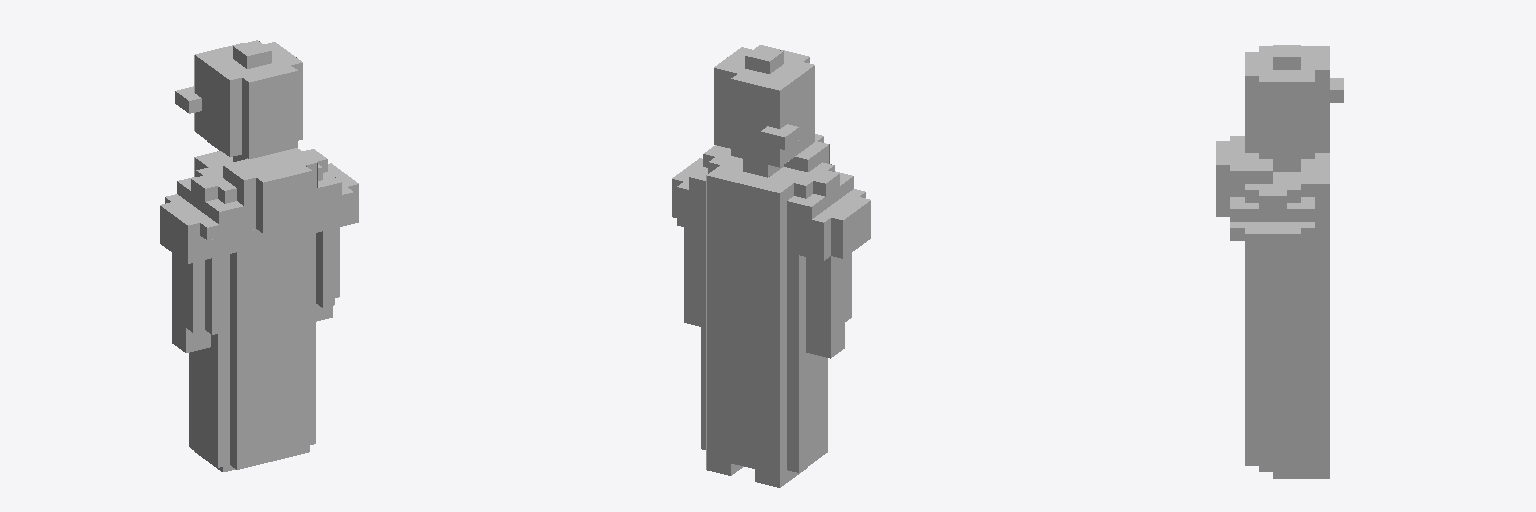
File: Monkv2-idle2.obj
The picture shows the model from 3 angles: view 1: azimuth 30°, elevation 25°; view 2: azimuth 150°, elevation 25°; view 3: azimuth 270°, elevation 25°; orthographic projection.
Visible parts, largest first — view 1: Untitled-1; view 2: Untitled-1; view 3: Untitled-1.
Boxes of the visible parts, x1=… form: Untitled-1: x1=160, y1=40, x2=358, y2=471; Untitled-1: x1=672, y1=45, x2=870, y2=487; Untitled-1: x1=1216, y1=45, x2=1343, y2=478.
Bounding box in the file's own units: 14 × 32 × 9.